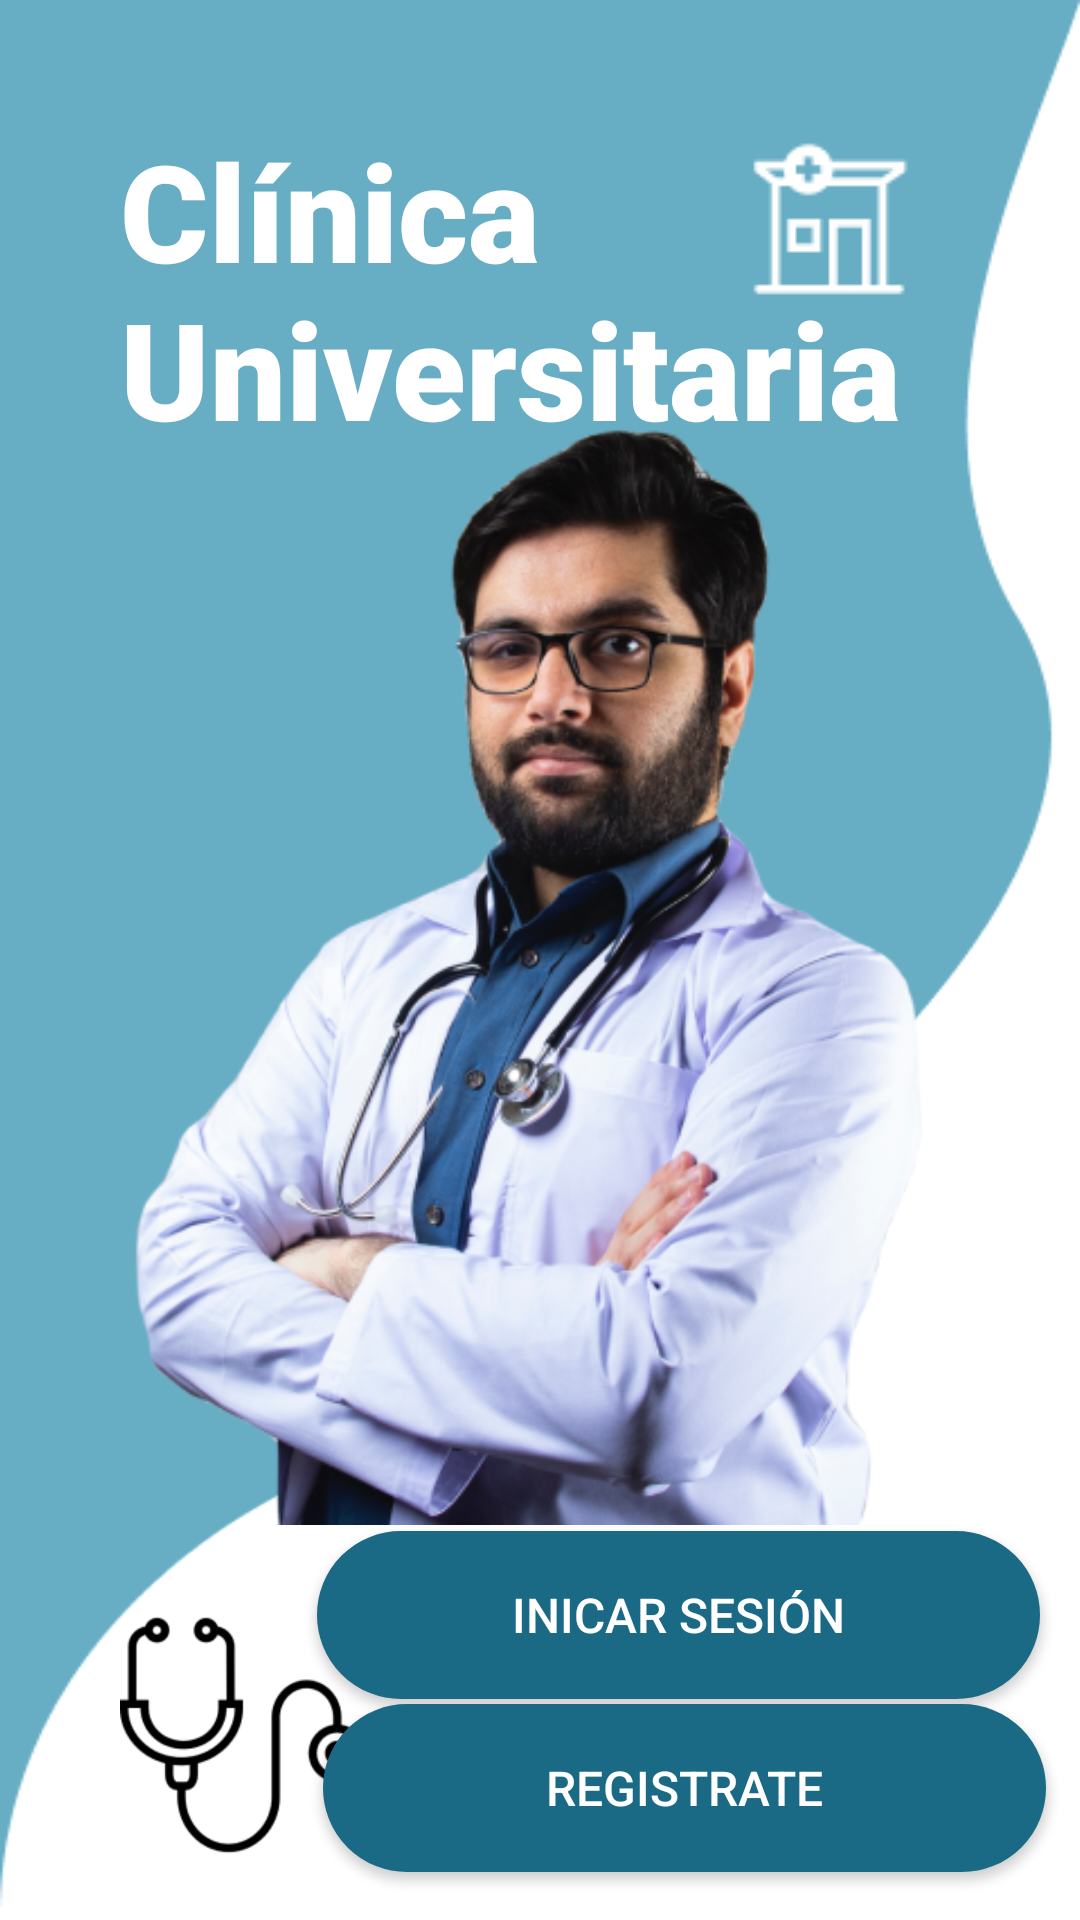

Screen size 1080×1920. Icon name, then its center in pixels as (x,y):
clinic: (830,219)
estetoscopio: (243,1735)
